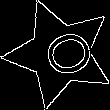O_W: (27, 24, 92, 84)
